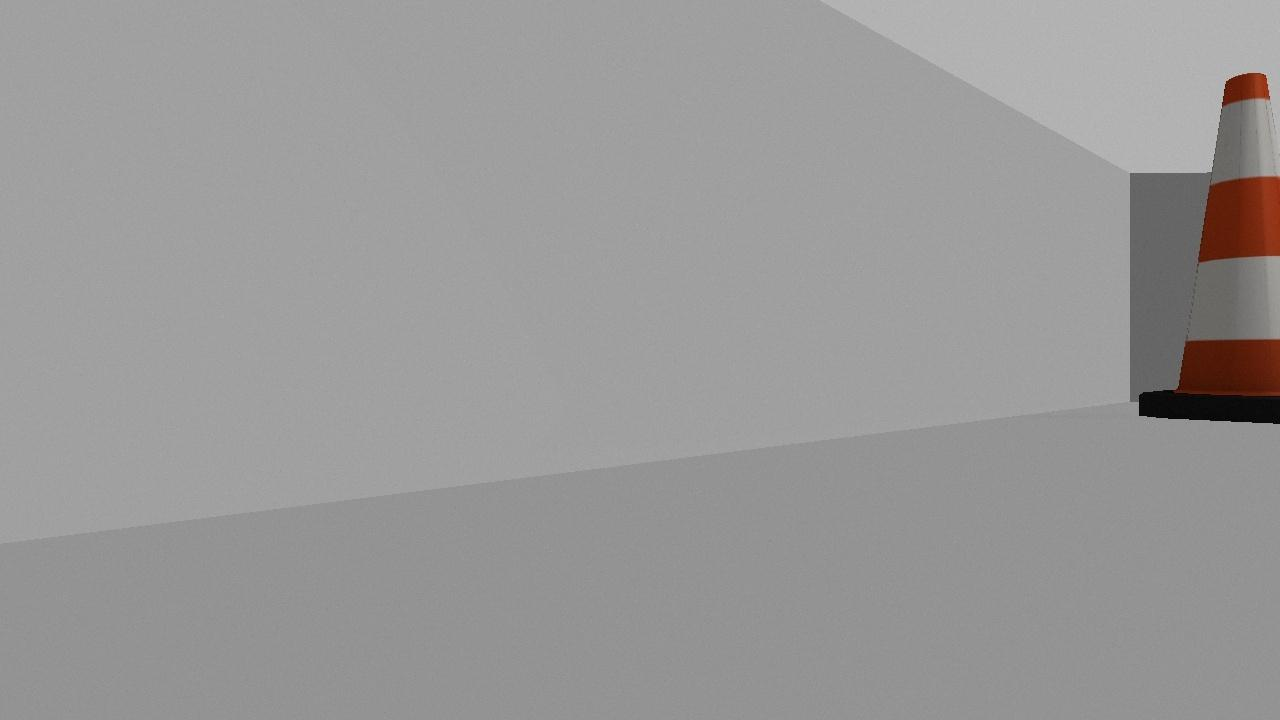cone_barrel: (1136, 71, 1279, 423)
